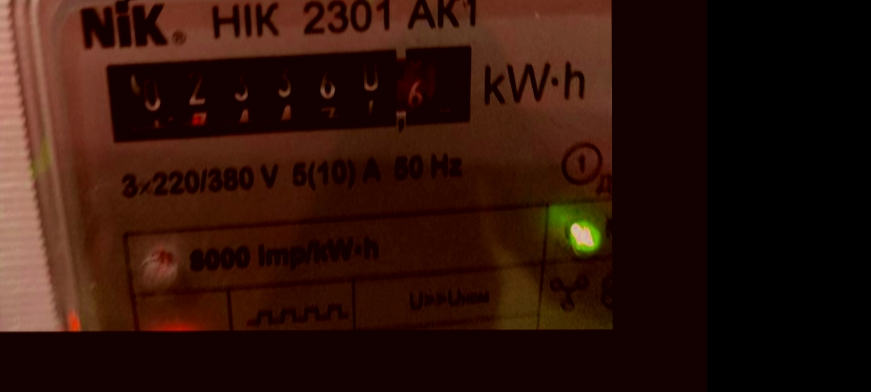0: (137, 73, 162, 115), (357, 57, 380, 94)
2: (181, 66, 207, 107)
3: (228, 64, 249, 104), (270, 62, 292, 100)
6: (312, 62, 338, 103), (404, 76, 425, 112)
screen: (83, 32, 484, 152)
